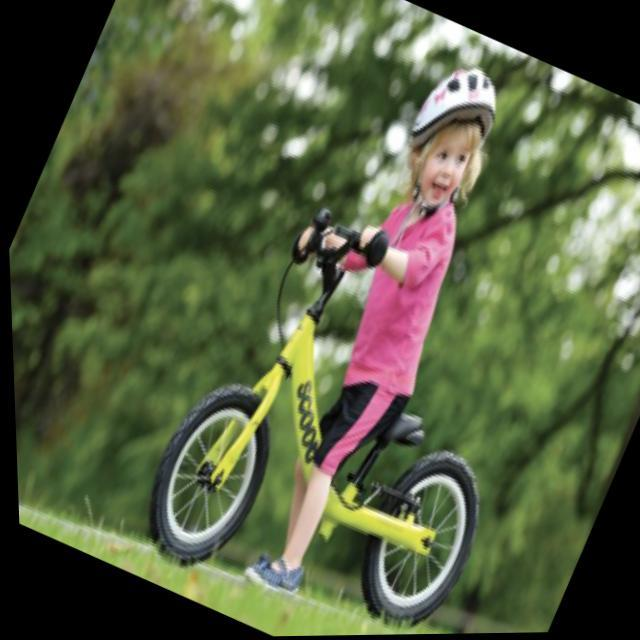Helmet: (401, 65, 500, 213)
